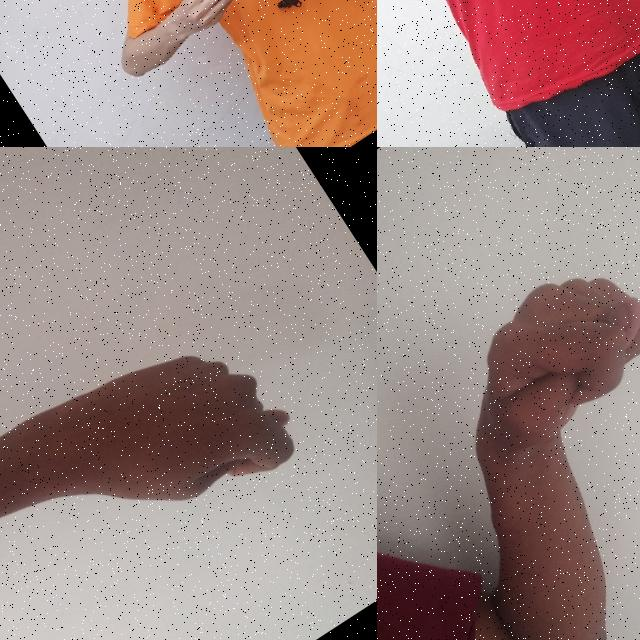Dulya: (0, 284, 319, 593), (409, 235, 640, 494)
Five Fathers: (148, 0, 377, 63)
